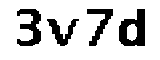3: (12, 6, 47, 47)
7: (83, 2, 116, 47)
d: (118, 5, 152, 52)
v: (46, 14, 80, 48)
